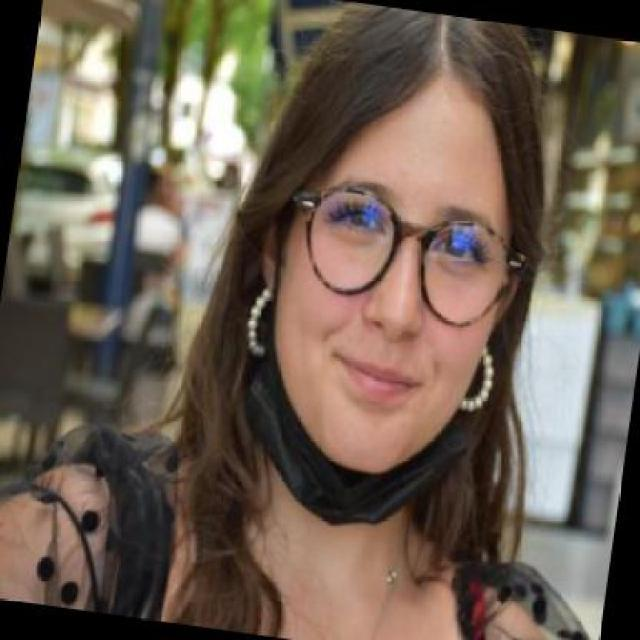hairnet: (225, 87, 538, 547)
